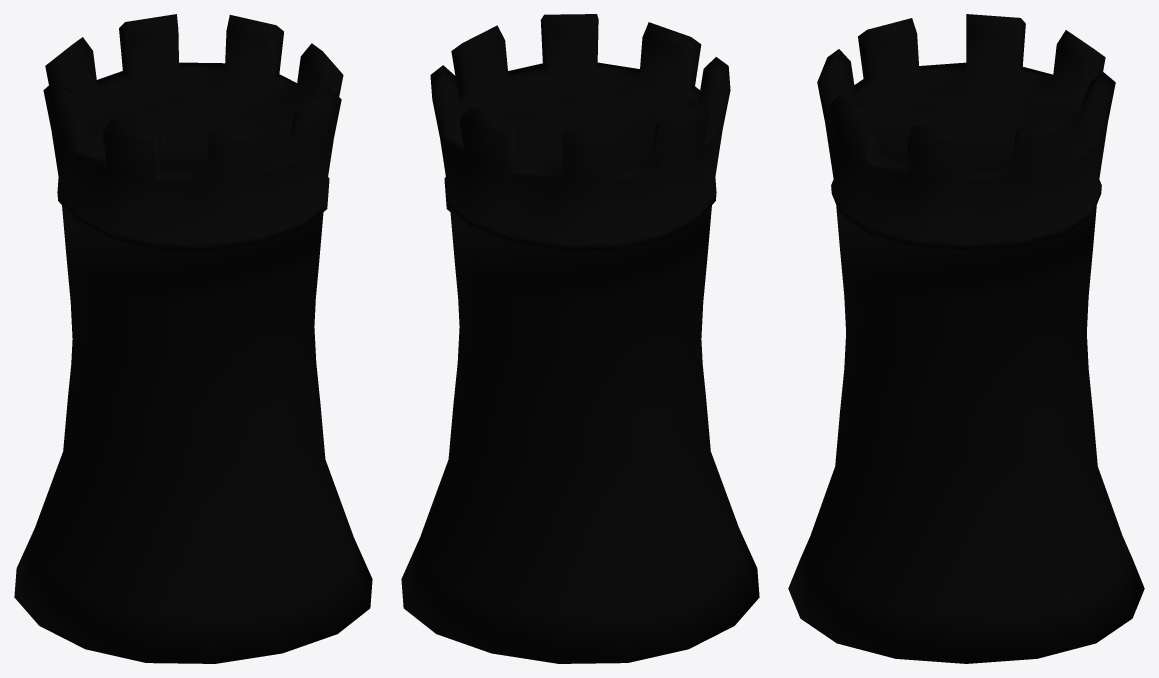
File: Torre.fbx
3 views of the same model, side by side, from view 1: azimuth 30°, elevation 25°; view 2: azimuth 150°, elevation 25°; view 3: azimuth 270°, elevation 25° (orthographic).
Visible parts, largest first — view 1: Cube; view 2: Cube; view 3: Cube.
Part boxes in pixels (x1,y1,x2,y2): Cube: (14,14,372,663); Cube: (401,14,759,663); Cube: (788,14,1144,663).
Bounding box in the file's own units: 132 × 211 × 132.
